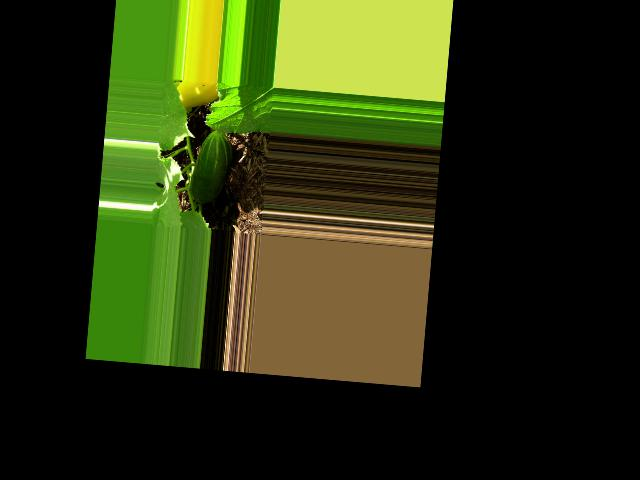cucumber: (188, 128, 235, 206)
